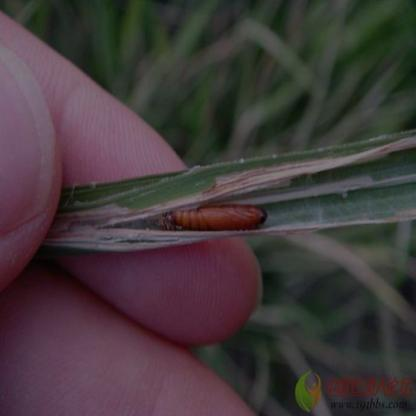leaf-folder: (165, 193, 270, 250)
